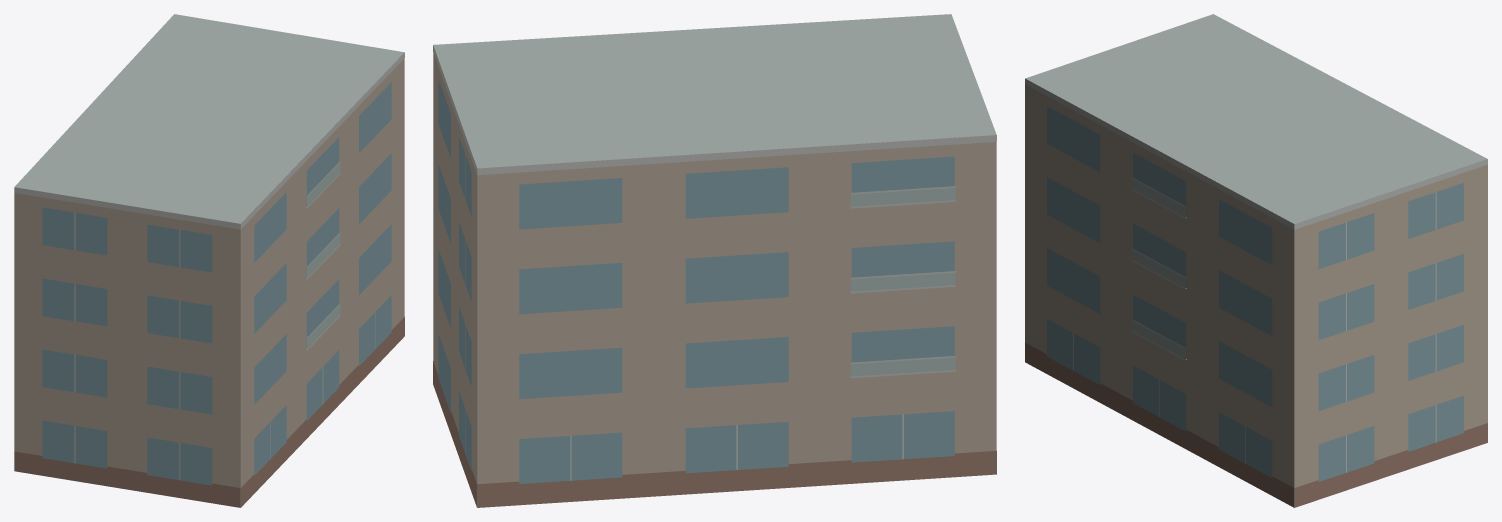
The model's file is survey-upis-32596877.glb.
3 renders of one model, left to right at view 1: azimuth 30°, elevation 25°; view 2: azimuth 150°, elevation 25°; view 3: azimuth 270°, elevation 25°, orthographic. The views are drawn at different scales.
Visible parts, largest first — view 1: survey-upis-32596877.tmp; view 2: survey-upis-32596877.tmp; view 3: survey-upis-32596877.tmp.
Part boxes in pixels (x1,y1,x2,y2): survey-upis-32596877.tmp: (14, 14, 404, 507); survey-upis-32596877.tmp: (433, 14, 996, 507); survey-upis-32596877.tmp: (1025, 14, 1487, 507).
Bounding box in the file's own units: 19.39 × 12.2 × 18.04.
